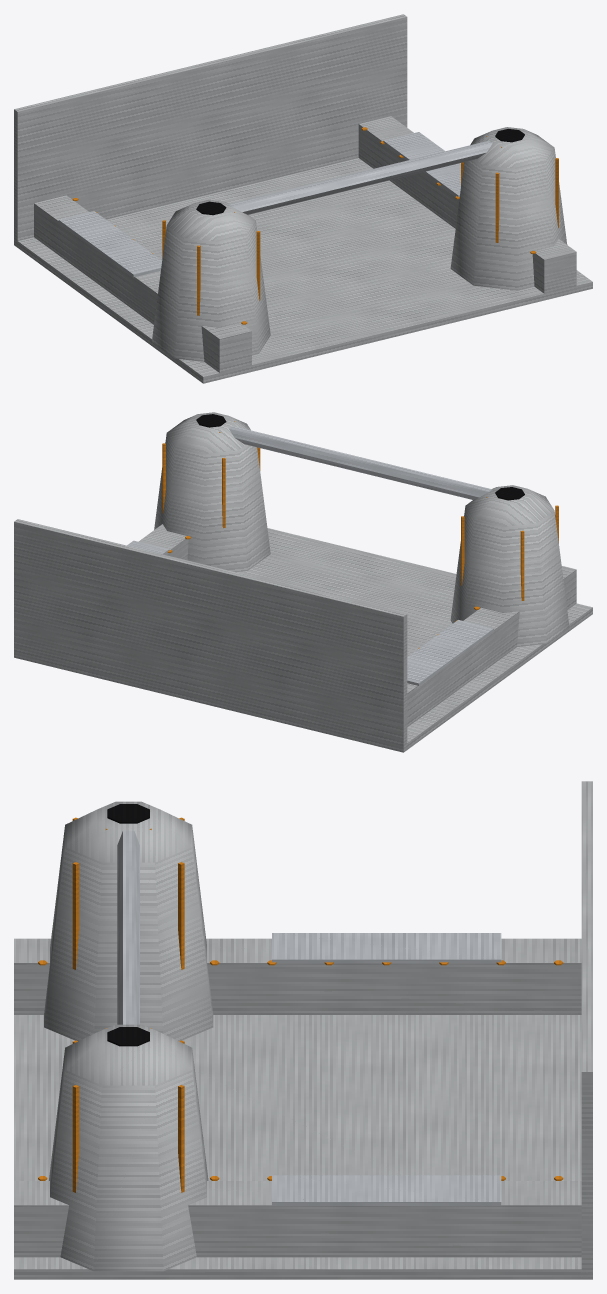
File: carroceria_comp_n3.glb
3 renders of one model, top to bottom at view 1: azimuth 30°, elevation 25°; view 2: azimuth 150°, elevation 25°; view 3: azimuth 270°, elevation 25°, orthographic. The views are drawn at different scales.
Visible parts, largest first — view 1: carroceria_comp_n3; view 2: carroceria_comp_n3; view 3: carroceria_comp_n3.
Boxes of the visible parts, x1,y1,x2,y2 form: carroceria_comp_n3: (14,14,592,383); carroceria_comp_n3: (14,412,592,752); carroceria_comp_n3: (14,781,592,1279).
Size of the model in its own units: 1.22 by 0.404 by 1.01.
2 materials, 2 textured.
